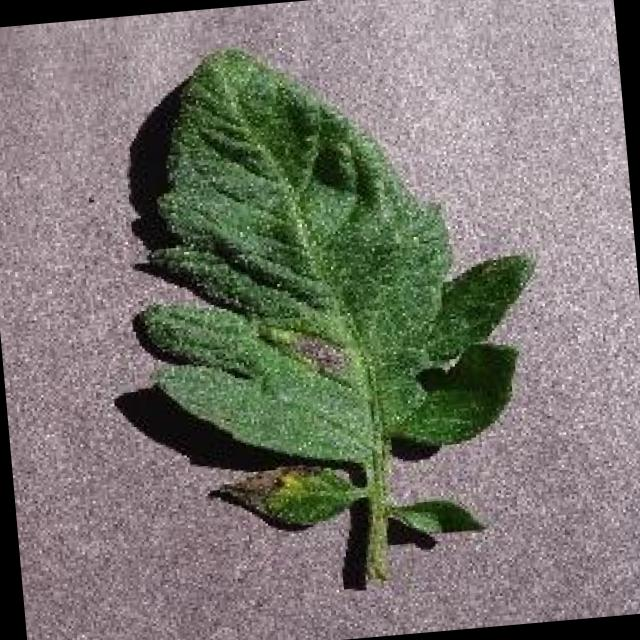Tomato_Early_Blight: (130, 292, 419, 580)
